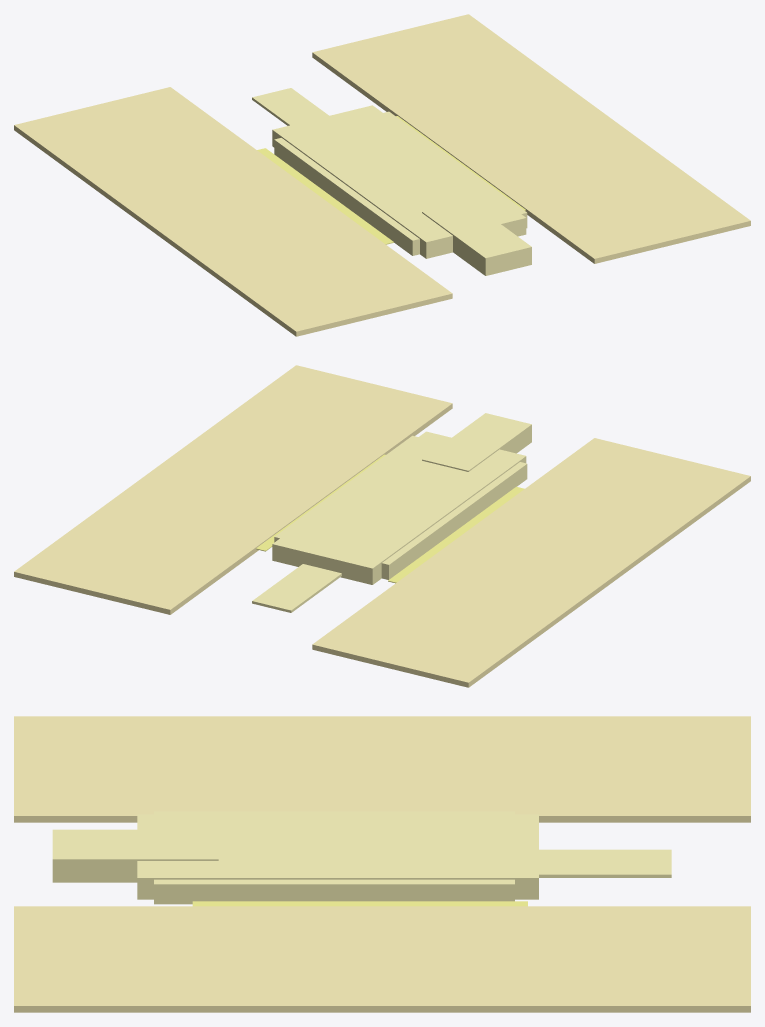
The model's file is road_separator_island_boarding_refuge.glb.
3 views of the same model, one above another, from view 1: azimuth 30°, elevation 25°; view 2: azimuth 150°, elevation 25°; view 3: azimuth 270°, elevation 25° (orthographic). The views are drawn at different scales.
Parts seen in each view (by area): view 1: lane_left, lane_right, boarding_refuge, refuge_nose, curb_left, pad_stub, tactile_left, curb_right; view 2: lane_left, lane_right, boarding_refuge, refuge_nose, curb_left, pad_stub, tactile_left, curb_right; view 3: lane_right, lane_left, boarding_refuge, curb_right, refuge_nose, pad_stub, tactile_right, curb_left.
Boxes of the visible parts, x1,y1,x2,y2 form: lane_left: (14,87,452,336); lane_right: (312,14,750,263); boarding_refuge: (272,105,526,258); refuge_nose: (422,200,531,275); curb_left: (274,138,419,255); pad_stub: (252,88,328,125); tactile_left: (257,148,393,244); curb_right: (383,111,527,228); lane_left: (312,438,750,687); lane_right: (14,365,452,614); boarding_refuge: (272,431,526,584); refuge_nose: (422,413,531,471); curb_left: (381,462,527,579); pad_stub: (252,564,341,612); tactile_left: (388,486,524,583); curb_right: (274,435,417,542); lane_right: (14,906,750,1012); lane_left: (14,716,750,822); boarding_refuge: (137,814,538,899); curb_right: (154,879,514,904); refuge_nose: (52,829,218,882); pad_stub: (539,849,671,877); tactile_right: (192,901,527,906); curb_left: (154,811,514,814).
Bounding box in the file's own units: 3.72 × 0.14 × 4.
